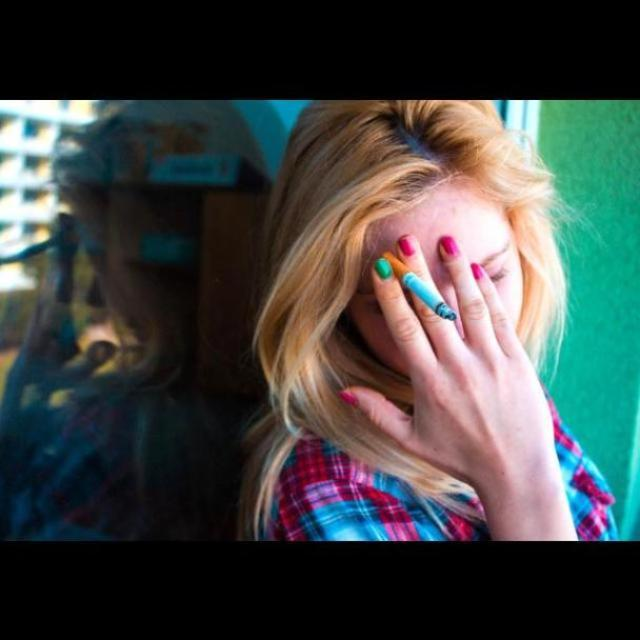rokok: (373, 245, 463, 328)
